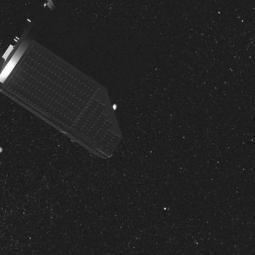cheops: (0, 0, 130, 159)
